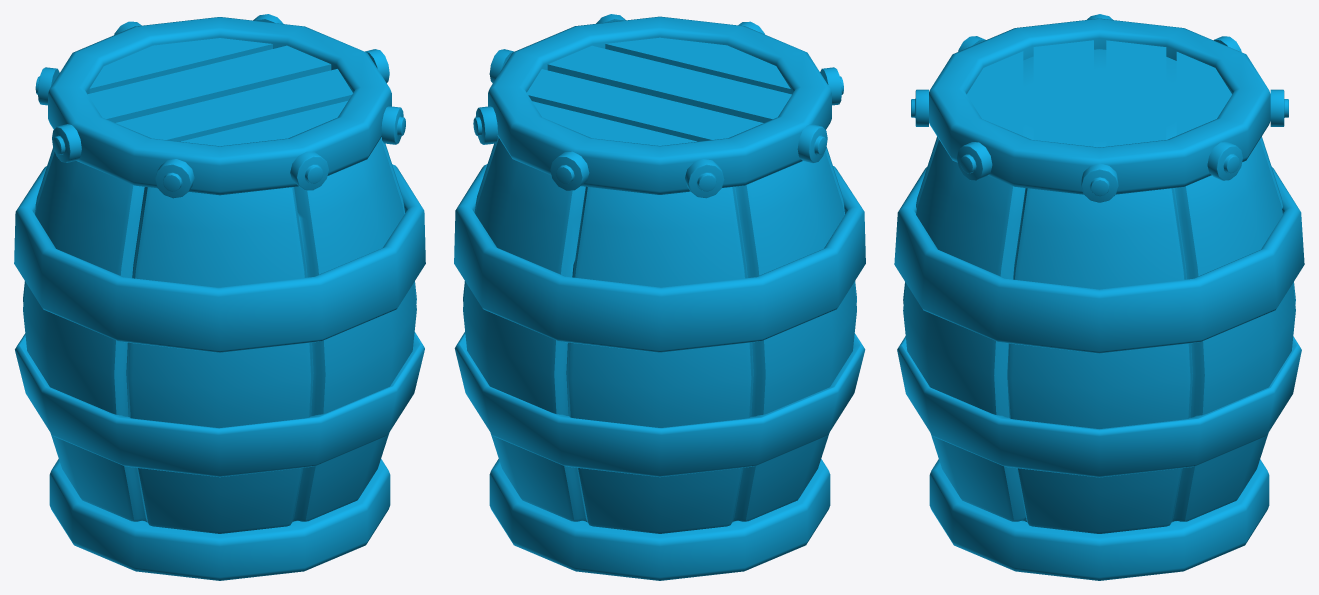
The model's file is SM_Tonneaux_02.fbx.
The picture shows the model from 3 angles, left to right: view 1: azimuth 30°, elevation 25°; view 2: azimuth 150°, elevation 25°; view 3: azimuth 270°, elevation 25°; orthographic projection.
Visible parts, largest first — view 1: SM_Tonneau_Bois_01_low, SM_Tonneau_Acier_01_low, SM_Tonneau_Acier_02_low, SM_Tonneau_Bois_02_low, SM_Tonneau_Acier_03_low, SM_Tonneau_Boulon_07_low, SM_Tonneau_Boulon_03_low, SM_Tonneau_Boulon_02_low, SM_Tonneau_Boulon_05_low, SM_Tonneau_Boulon_06_low; view 2: SM_Tonneau_Bois_01_low, SM_Tonneau_Acier_01_low, SM_Tonneau_Acier_02_low, SM_Tonneau_Bois_02_low, SM_Tonneau_Acier_03_low, SM_Tonneau_Boulon_06_low, SM_Tonneau_Boulon_04_low, SM_Tonneau_Boulon_02_low, SM_Tonneau_Boulon_08_low, SM_Tonneau_Boulon_07_low; view 3: SM_Tonneau_Bois_01_low, SM_Tonneau_Acier_01_low, SM_Tonneau_Acier_02_low, SM_Tonneau_Acier_03_low, SM_Tonneau_Bois_02_low, SM_Tonneau_Boulon_01_low, SM_Tonneau_Boulon_05_low, SM_Tonneau_Boulon_08_low, SM_Tonneau_Boulon_04_low, SM_Tonneau_Boulon_03_low.
Boxes of the visible parts, left/top/right/bottom form: SM_Tonneau_Bois_01_low: left=23, top=137, right=416, bottom=533; SM_Tonneau_Acier_01_low: left=48, top=17, right=391, bottom=580; SM_Tonneau_Acier_02_low: left=14, top=164, right=425, bottom=352; SM_Tonneau_Bois_02_low: left=88, top=38, right=352, bottom=146; SM_Tonneau_Acier_03_low: left=15, top=332, right=424, bottom=477; SM_Tonneau_Boulon_07_low: left=155, top=159, right=194, bottom=198; SM_Tonneau_Boulon_03_low: left=290, top=151, right=328, bottom=190; SM_Tonneau_Boulon_02_low: left=52, top=124, right=81, bottom=162; SM_Tonneau_Boulon_05_low: left=381, top=106, right=405, bottom=144; SM_Tonneau_Boulon_06_low: left=35, top=67, right=59, bottom=105; SM_Tonneau_Bois_01_low: left=463, top=136, right=856, bottom=533; SM_Tonneau_Acier_01_low: left=488, top=16, right=831, bottom=580; SM_Tonneau_Acier_02_low: left=454, top=164, right=865, bottom=352; SM_Tonneau_Bois_02_low: left=527, top=37, right=791, bottom=145; SM_Tonneau_Acier_03_low: left=454, top=331, right=865, bottom=477; SM_Tonneau_Boulon_06_low: left=685, top=159, right=724, bottom=198; SM_Tonneau_Boulon_04_low: left=550, top=151, right=589, bottom=190; SM_Tonneau_Boulon_02_low: left=797, top=124, right=827, bottom=162; SM_Tonneau_Boulon_08_low: left=473, top=106, right=497, bottom=144; SM_Tonneau_Boulon_07_low: left=820, top=67, right=843, bottom=105; SM_Tonneau_Bois_01_low: left=903, top=49, right=1295, bottom=533; SM_Tonneau_Acier_01_low: left=929, top=18, right=1270, bottom=580; SM_Tonneau_Acier_02_low: left=894, top=167, right=1304, bottom=353; SM_Tonneau_Acier_03_low: left=897, top=336, right=1301, bottom=477; SM_Tonneau_Bois_02_low: left=967, top=40, right=1231, bottom=146; SM_Tonneau_Boulon_01_low: left=1081, top=163, right=1118, bottom=202; SM_Tonneau_Boulon_05_low: left=957, top=142, right=992, bottom=180; SM_Tonneau_Boulon_08_low: left=1207, top=142, right=1242, bottom=180; SM_Tonneau_Boulon_04_low: left=1270, top=89, right=1288, bottom=126; SM_Tonneau_Boulon_03_low: left=911, top=89, right=928, bottom=126.
Size of the model in its own units: 76.54 by 86.92 by 76.46.
